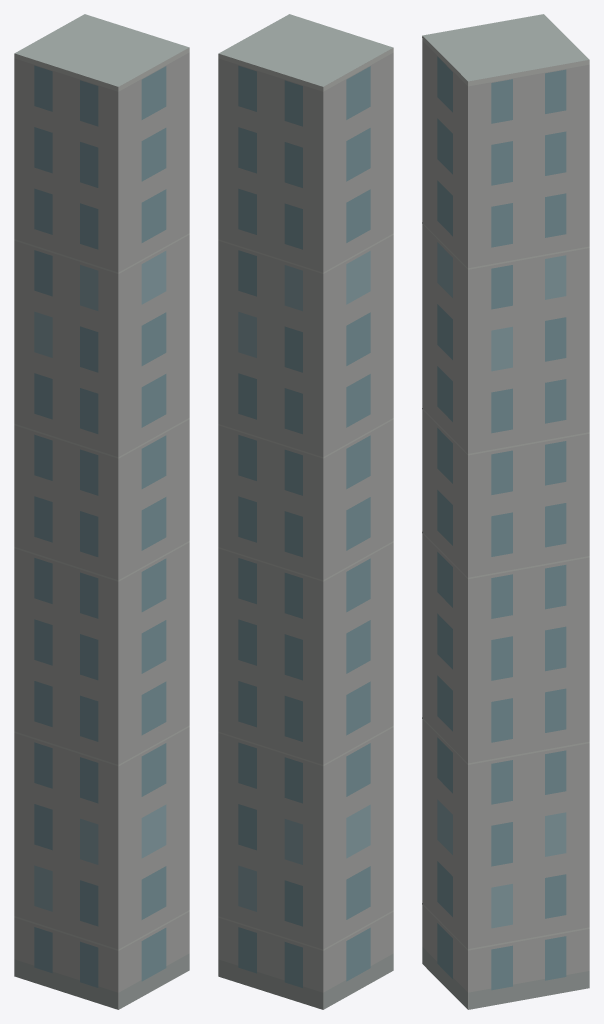
File: survey-upis-32690901.glb
The picture shows the model from 3 angles, left to right: view 1: azimuth 30°, elevation 25°; view 2: azimuth 210°, elevation 25°; view 3: azimuth 270°, elevation 25°; orthographic projection.
Visible parts, largest first — view 1: survey-upis-32690901.tmp; view 2: survey-upis-32690901.tmp; view 3: survey-upis-32690901.tmp.
Part boxes in pixels (<box>): survey-upis-32690901.tmp: <box>14,14,189,1009</box>; survey-upis-32690901.tmp: <box>218,14,393,1009</box>; survey-upis-32690901.tmp: <box>422,14,589,1009</box>.
Bounding box in the file's own units: 7.16 × 45.75 × 7.49.
